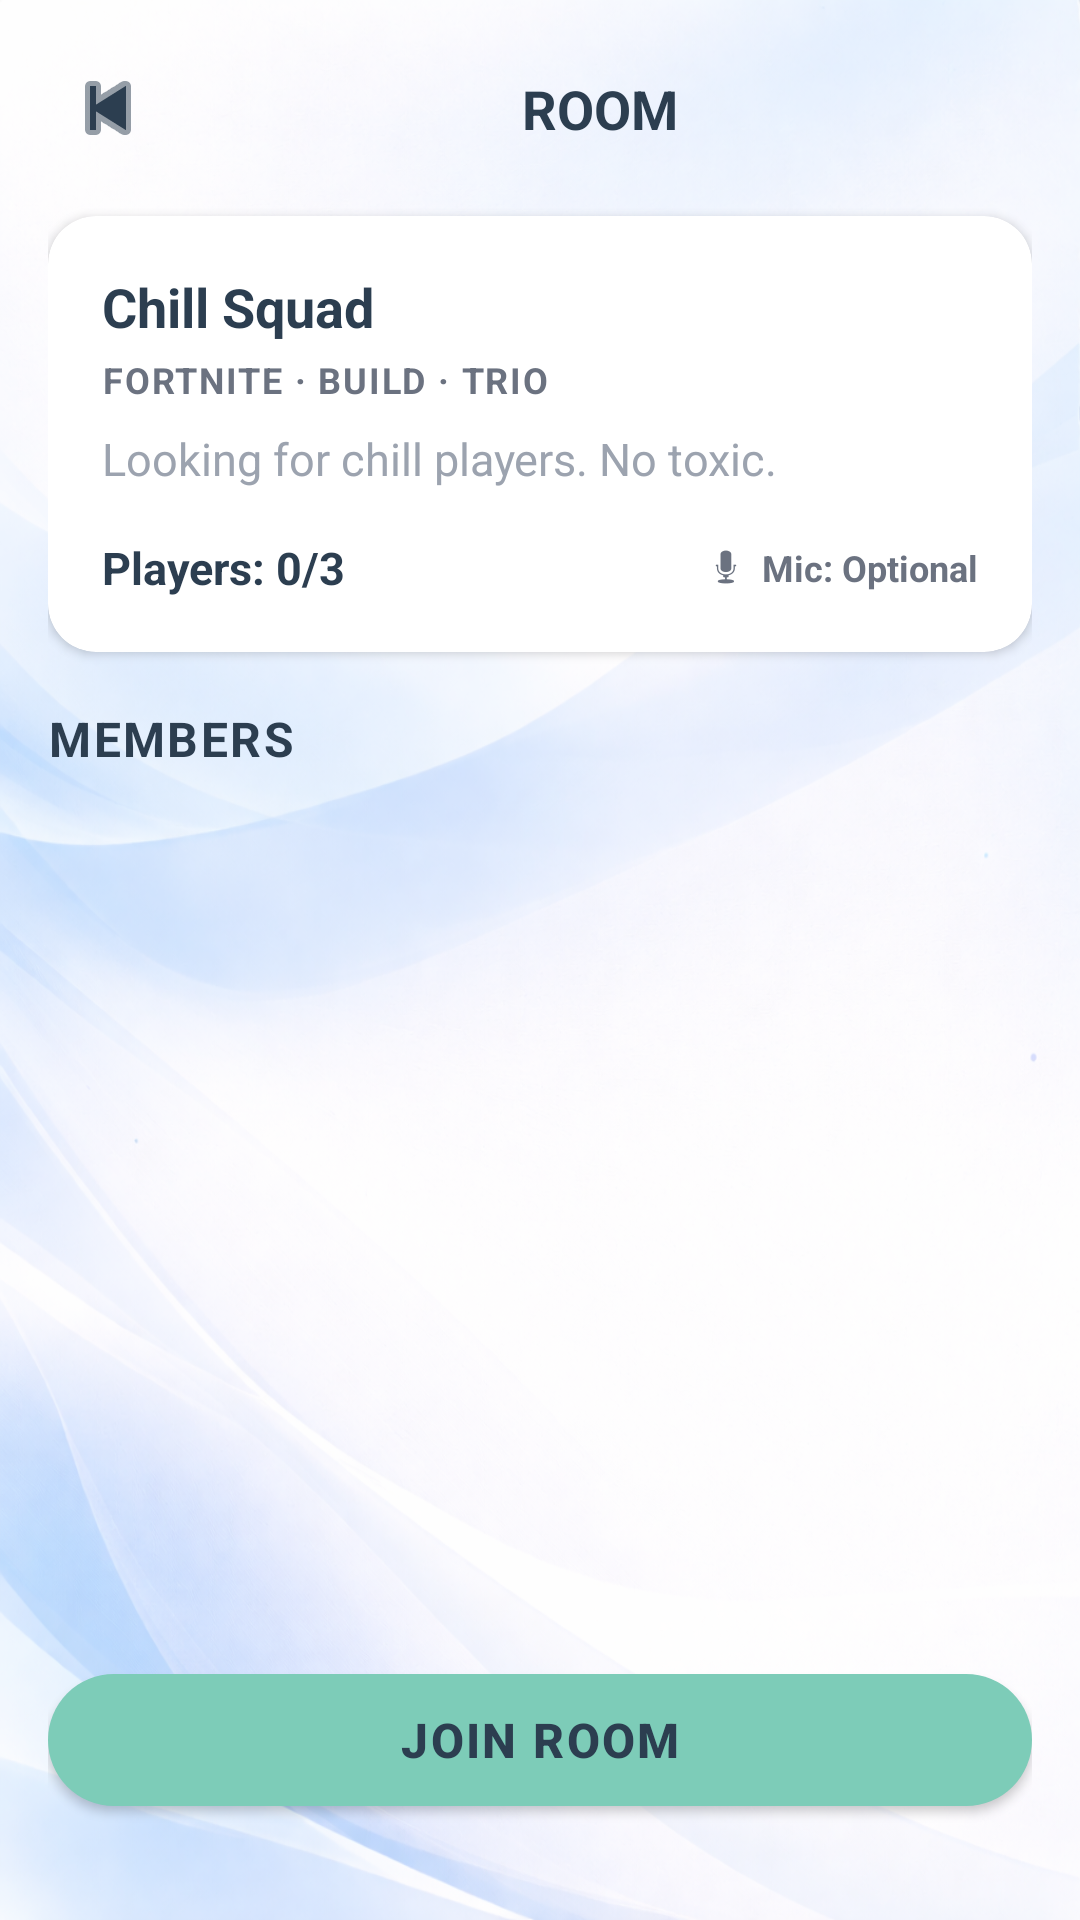

Icon click points for this 1080px x 1920px phone screenshot, format point (x, y):
Back: point (108, 108)
